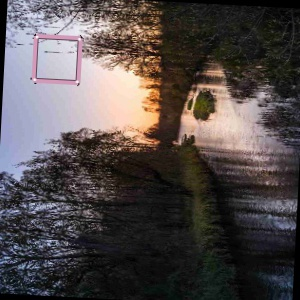square: (28, 30, 85, 88)
